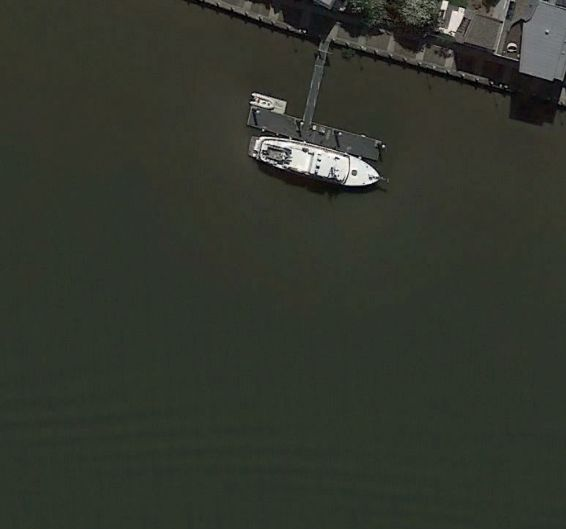boat: (246, 133, 381, 191)
